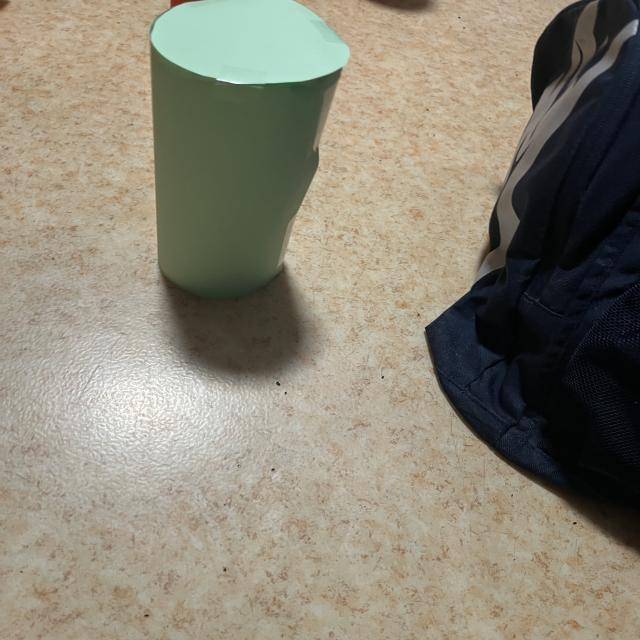meta: (150, 0, 349, 297)
